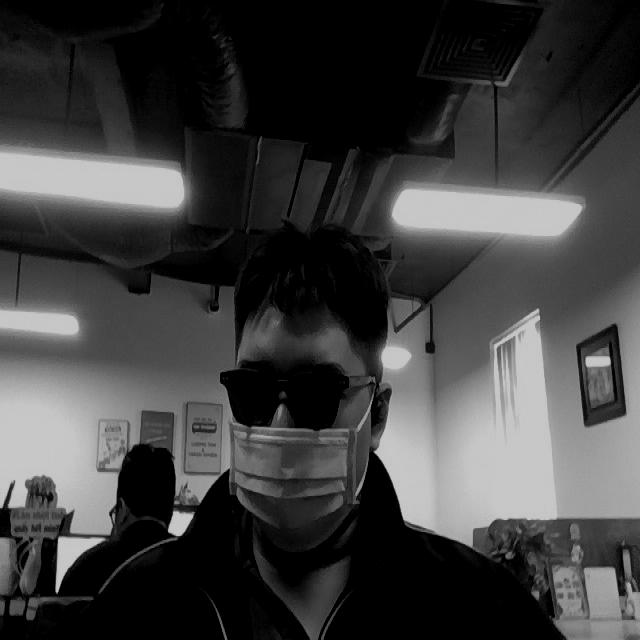fake: (228, 420, 362, 556), (216, 364, 367, 427)
